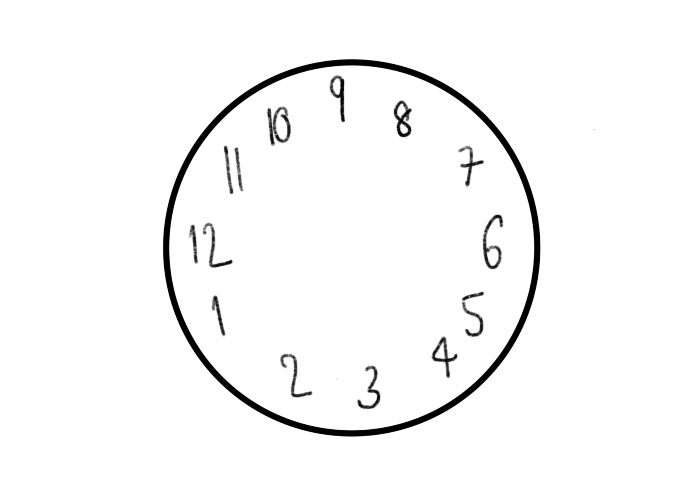eight: (390, 98, 415, 140)
eleven: (220, 139, 249, 197)
five: (460, 282, 489, 340)
four: (428, 331, 459, 382)
nine: (325, 73, 350, 124)
one: (208, 293, 229, 337)
seven: (455, 143, 483, 191)
six: (479, 209, 506, 273)
ten: (262, 103, 293, 149)
three: (353, 359, 383, 413)
twelve: (183, 215, 232, 271)
two: (277, 345, 312, 403)
